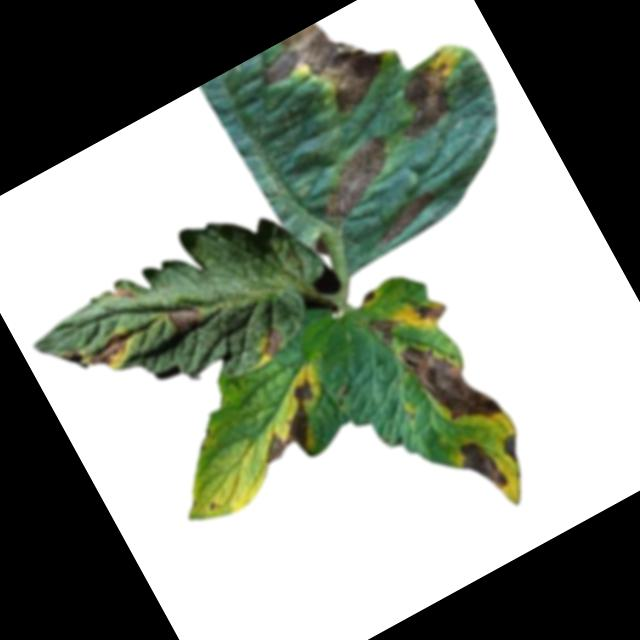Early_blight: (253, 1, 401, 138), (397, 318, 506, 441), (303, 128, 412, 225), (240, 375, 340, 471), (378, 54, 468, 143), (365, 184, 446, 249), (451, 431, 510, 500), (80, 324, 139, 376), (164, 296, 208, 337), (253, 320, 292, 360), (366, 309, 404, 349), (413, 291, 449, 326), (497, 431, 529, 466), (111, 279, 138, 304), (358, 286, 377, 306)
